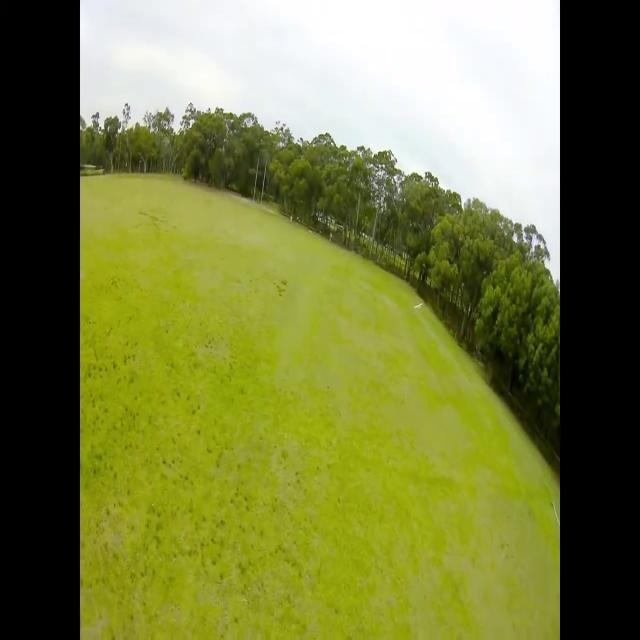iha: (418, 303, 420, 309)
